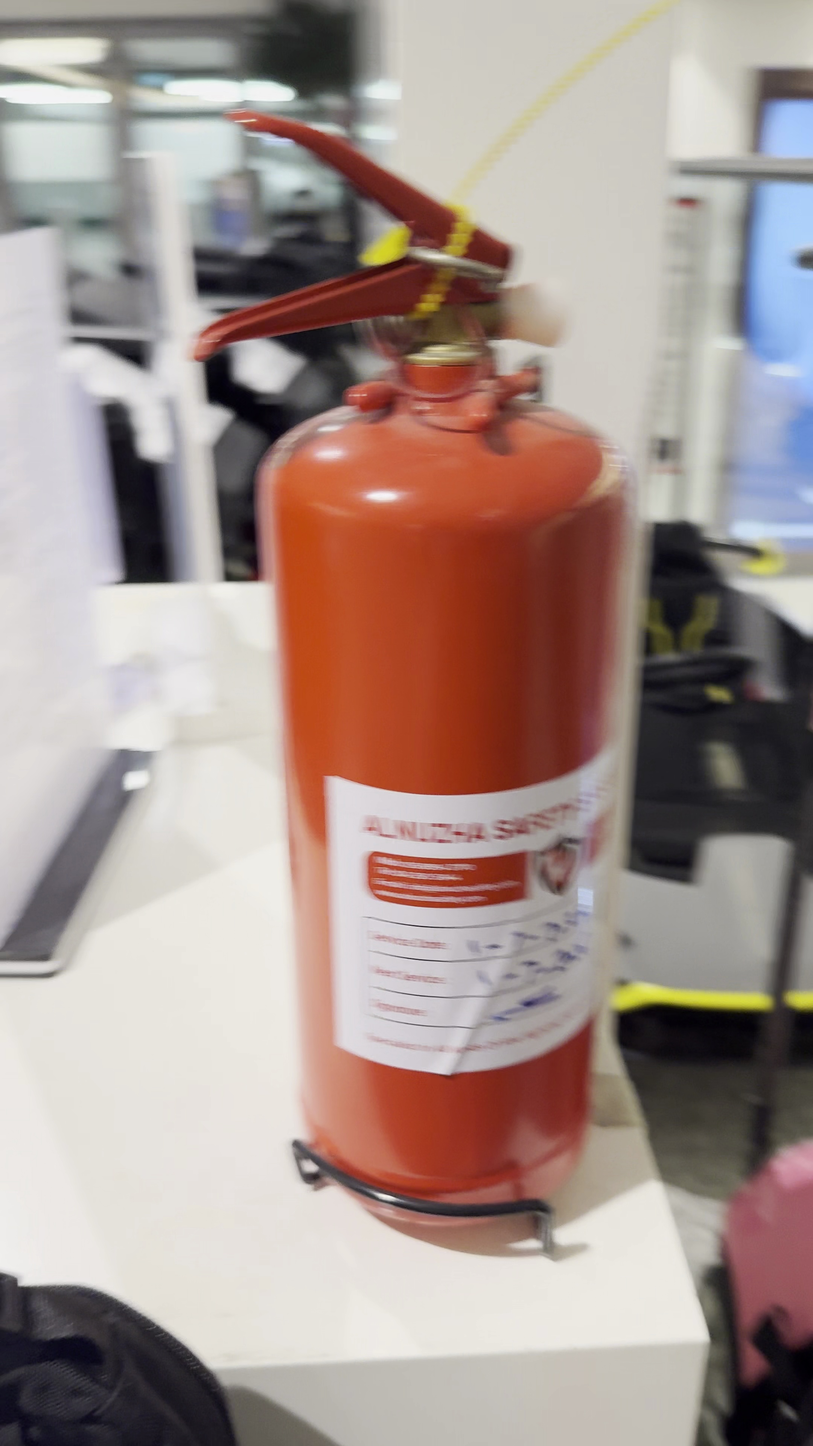fire_extinguisher: (191, 107, 646, 1252)
